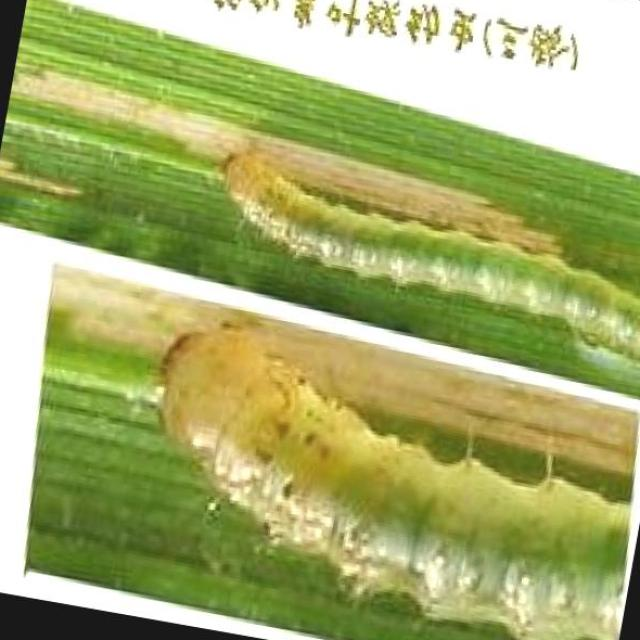leaf folder: (164, 334, 630, 640), (222, 155, 640, 370)
